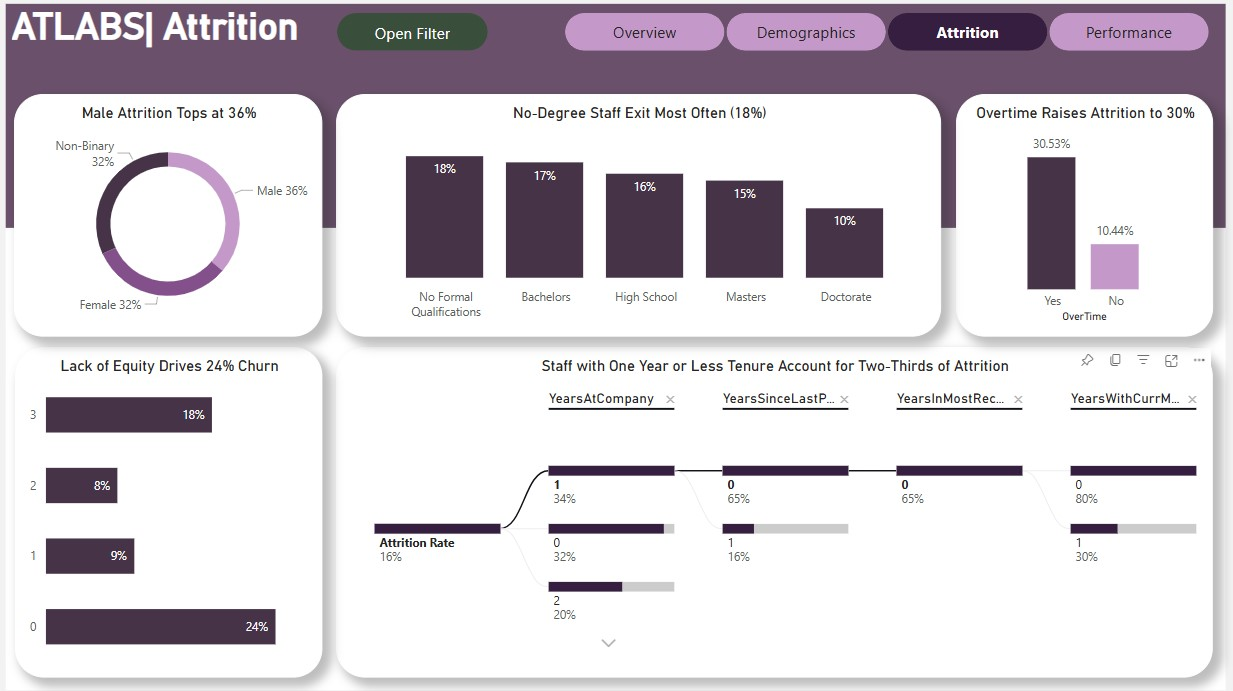

This screenshot's page, from the dashboard's own definition file:
{"tool":"powerbi","page":{"name":"Attrition","canvas":[1280,720],"ordinal":2},"visuals":[{"type":"image","box":[0,0,1279.8,720],"z":0},{"type":"actionButton","title":"Open Filter Button","box":[351.4,14.3,156,39.4],"z":0,"group":"g1"},{"type":"decompositionTreeVisual","title":"Staff with One Year or Less Tenure Account for Two‑Thirds of Attrition","fields":{"Analyze":["_Measures.Attrition Rate"],"ExplainBy":["Employee.YearsAtCompany","Employee.YearsSinceLastPromotion","Employee.YearsInMostRecentRole","Employee.YearsWithCurrManager"]},"box":[350.9,360.2,906.5,341.6],"z":1000},{"type":"barChart","title":"Lack of Equity Drives 24% Churn","fields":{"Category":["Employee.StockOptionLevel"],"Y":["_Measures.Attrition Rate"]},"box":[18.6,360.2,317.7,341.6],"z":2000},{"type":"columnChart","title":"Overtime Raises Attrition to 30%","fields":{"Category":["Employee.OverTime"],"Y":["_Measures.Attrition Rate"]},"box":[991.8,98.4,266,251.3],"z":3000},{"type":"clusteredColumnChart","title":"No‑Degree Staff Exit Most Often (18%)","fields":{"Category":["EducationLevel.EducationLevel"],"Y":["_Measures.Attrition Rate"]},"box":[351.2,98.4,626,251.3],"z":4000},{"type":"donutChart","title":"Male Attrition Tops at 36%","fields":{"Category":["Employee.Gender"],"Y":["_Measures.Attrition Rate"]},"box":[17.6,98.4,318.9,251.3],"z":5000},{"type":"textbox","box":[10.3,0,326.2,69.1],"z":6000},{"type":"pageNavigator","box":[588,14.3,668.7,39.4],"z":7000},{"type":"group","id":"g1","title":"Filter Buttons","box":[351.4,14.3,156,39.7],"z":9000}]}

Visuals, with their boxes in screenshot pixels (x1, y1, x2, y2), scaled from the page's 1280x720 canvas onto the 1233x691 screenshot:
image: rect(0, 0, 1232, 690)
"Open Filter Button" actionButton: rect(338, 14, 489, 52)
"Staff with One Year or Less Tenure Account for Two‑Thirds of Attrition" decompositionTreeVisual: rect(338, 346, 1211, 674)
"Lack of Equity Drives 24% Churn" barChart: rect(18, 346, 324, 674)
"Overtime Raises Attrition to 30%" columnChart: rect(955, 94, 1212, 336)
"No‑Degree Staff Exit Most Often (18%)" clusteredColumnChart: rect(338, 94, 941, 336)
"Male Attrition Tops at 36%" donutChart: rect(17, 94, 324, 336)
textbox: rect(10, 0, 324, 66)
pageNavigator: rect(566, 14, 1211, 52)
"Filter Buttons" group: rect(338, 14, 489, 52)
